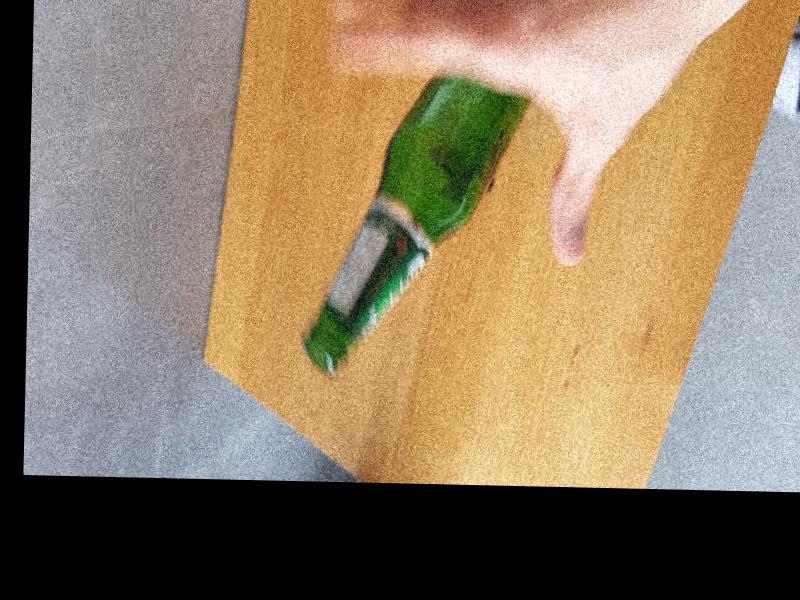Beer: (302, 74, 533, 381)
